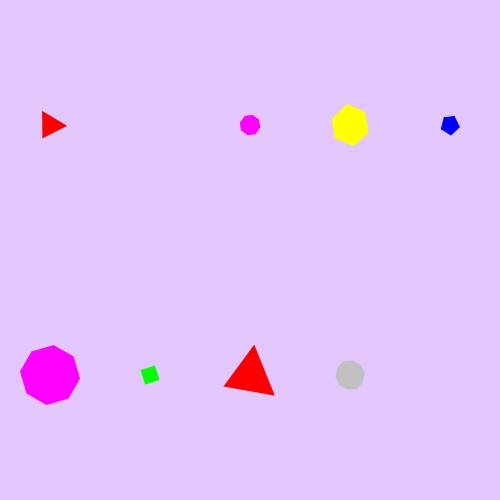decagon: (331, 357, 370, 393)
hexagon: (325, 104, 375, 146)
octagon: (17, 342, 84, 409), (235, 110, 265, 140)
pentagon: (436, 111, 464, 139)
quadrilateral: (135, 360, 165, 390)
triangle: (224, 347, 277, 403), (34, 108, 67, 142)
